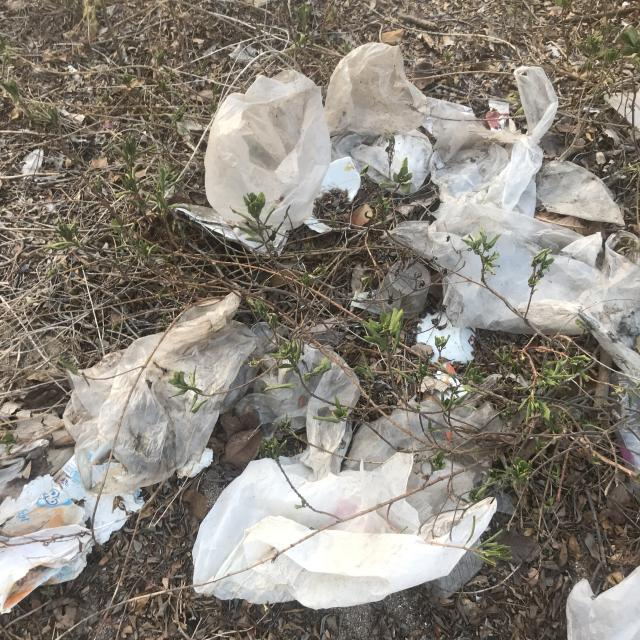Single-layer Plastic: (192, 452, 495, 609), (64, 294, 258, 494), (391, 201, 602, 334), (220, 322, 360, 479), (205, 70, 331, 230), (325, 42, 488, 165), (346, 400, 504, 470), (579, 240, 640, 351), (566, 566, 640, 640)
